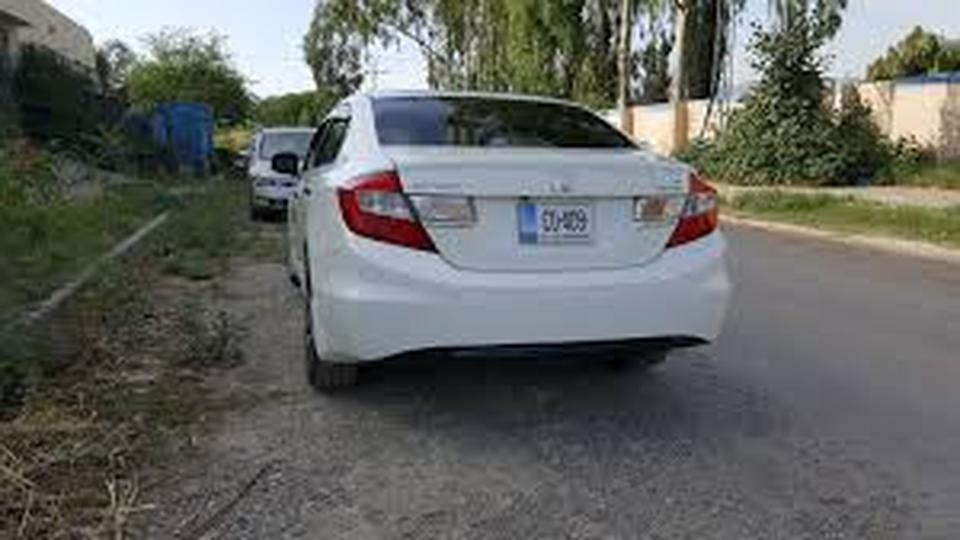NumberPlate: (501, 206, 610, 251)
